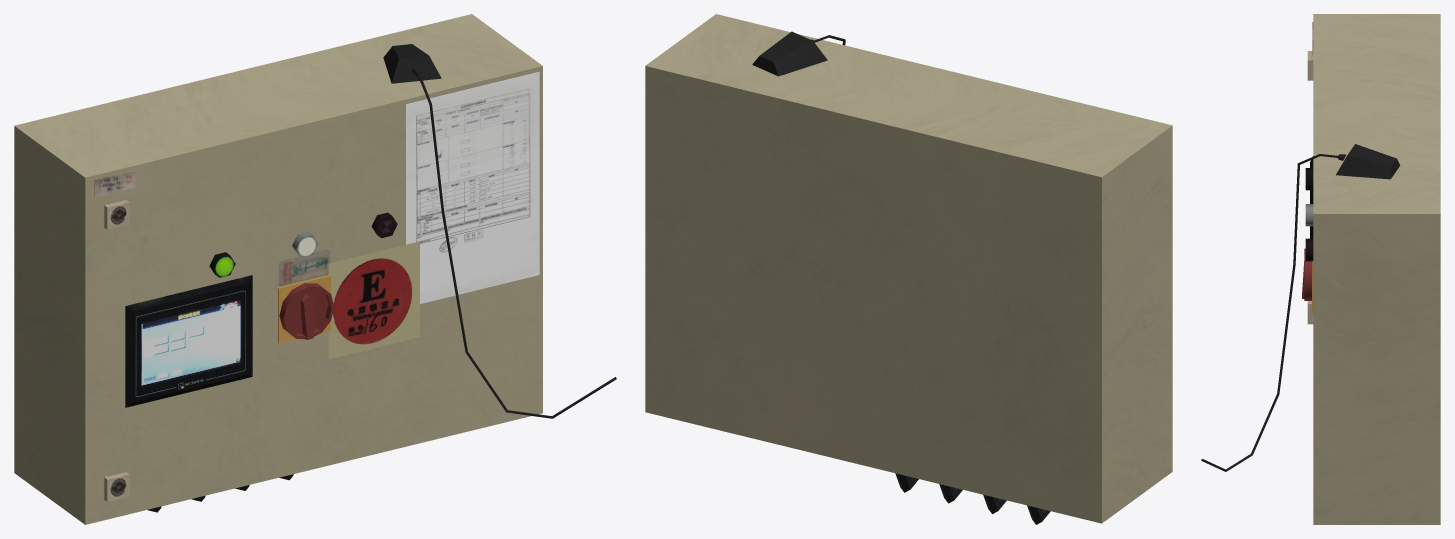
Rendered from peidian3.FBX.
The picture shows the model from 3 angles, left to right: view 1: azimuth 30°, elevation 25°; view 2: azimuth 150°, elevation 25°; view 3: azimuth 270°, elevation 25°; orthographic projection. The views are drawn at different scales.
Parts seen in each view (by area): view 1: YF_Model_peidian3; view 2: YF_Model_peidian3; view 3: YF_Model_peidian3.
Part boxes in pixels (x1,y1,x2,y2): YF_Model_peidian3: (14, 14, 616, 524); YF_Model_peidian3: (645, 14, 1172, 524); YF_Model_peidian3: (1201, 14, 1440, 524).
Bounding box in the file's own units: 101 × 82.82 × 49.72.
